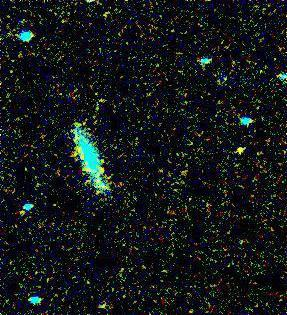star: (226, 137, 256, 167)
